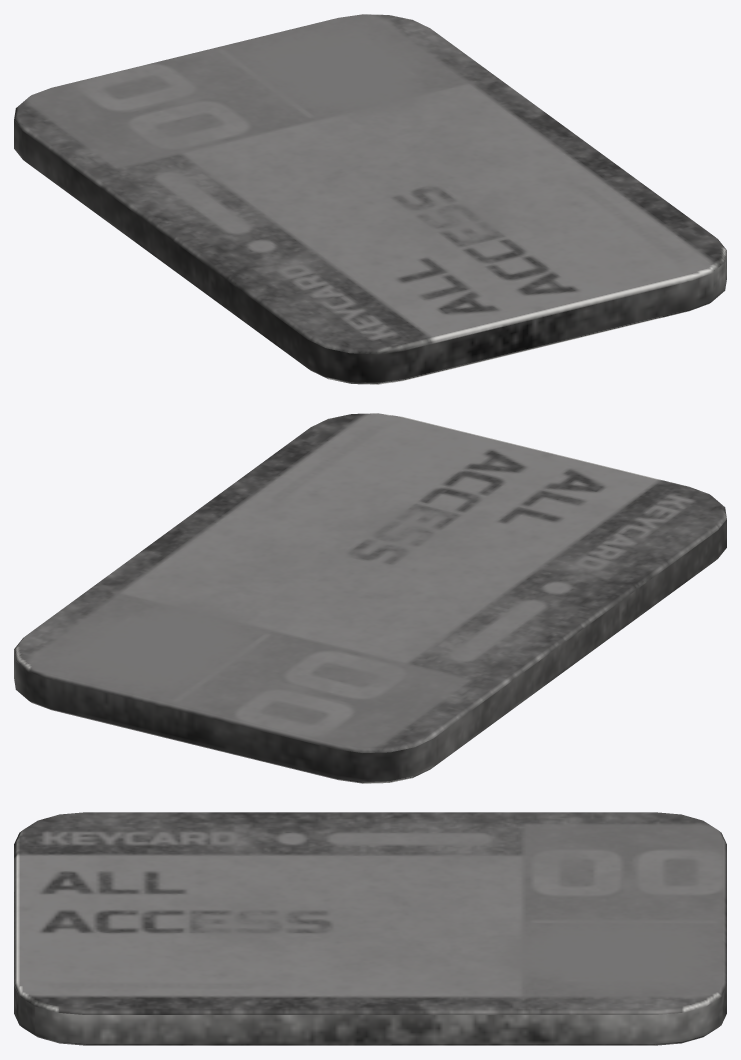
The model's file is Key_Card_00_All.fbx.
3 views of the same model, one above another, from view 1: azimuth 30°, elevation 25°; view 2: azimuth 150°, elevation 25°; view 3: azimuth 270°, elevation 25° (orthographic).
Parts seen in each view (by area): view 1: Key_Card_0_All; view 2: Key_Card_0_All; view 3: Key_Card_0_All.
Part boxes in pixels (x1=…): Key_Card_0_All: x1=14, y1=14, x2=726, y2=384; Key_Card_0_All: x1=14, y1=413, x2=726, y2=783; Key_Card_0_All: x1=14, y1=812, x2=726, y2=1045.
Size of the model in its own units: 0.6 by 0.05 by 0.9.
Materials: 1 (1 with a texture image).
